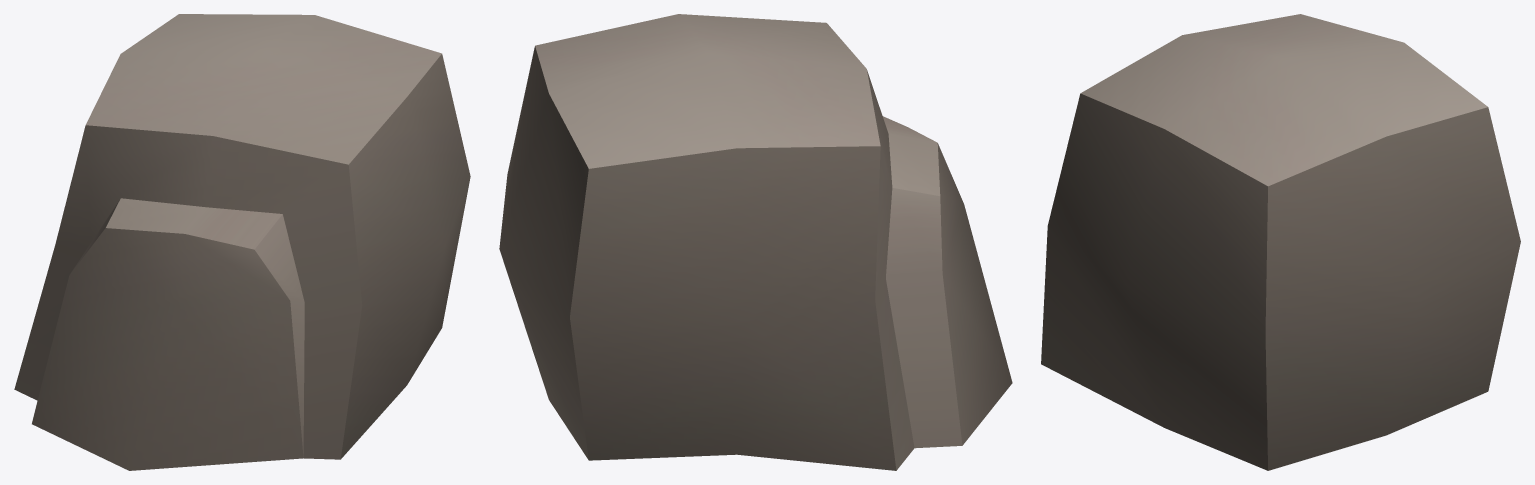
Rendered from elf_mine_stone_04.fbx.
The picture shows the model from 3 angles, left to right: view 1: azimuth 30°, elevation 25°; view 2: azimuth 150°, elevation 25°; view 3: azimuth 270°, elevation 25°; orthographic projection. The views are drawn at different scales.
Visible parts, largest first — view 1: elf_mine_stone_04; view 2: elf_mine_stone_04; view 3: elf_mine_stone_04.
Part boxes in pixels (x1,y1,x2,y2): elf_mine_stone_04: [14, 14, 470, 470]; elf_mine_stone_04: [499, 14, 1012, 470]; elf_mine_stone_04: [1041, 14, 1520, 470].
Bounding box in the file's own units: 271 × 188 × 251.
